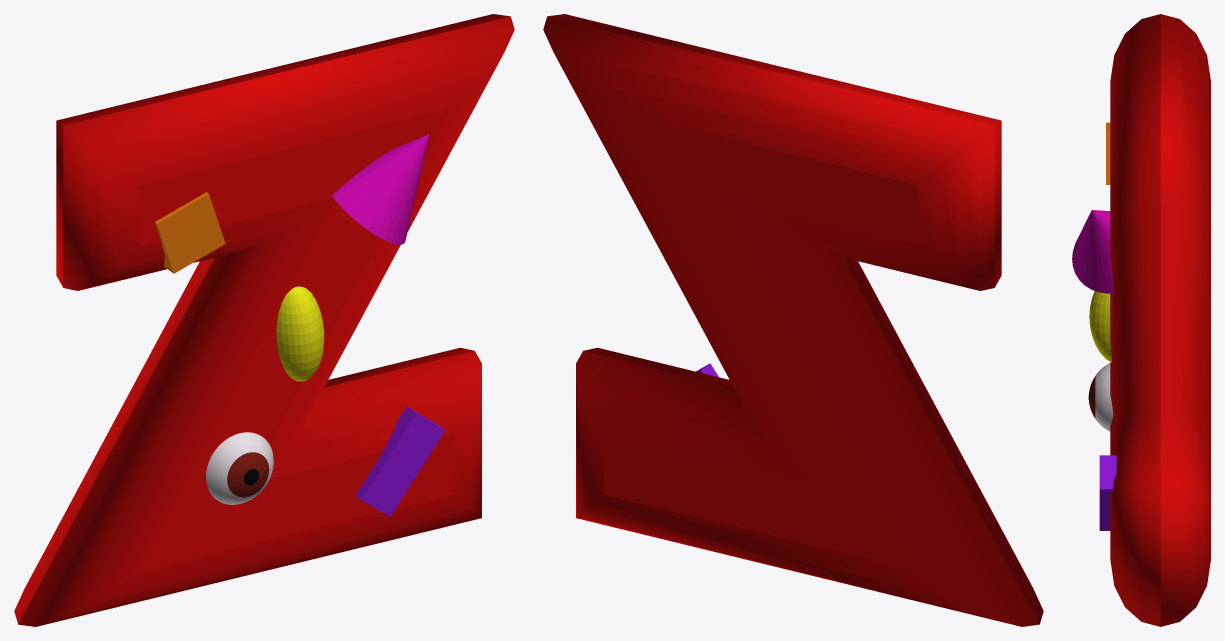
File: z_red.fbx
3 views of the same model, side by side, from view 1: azimuth 30°, elevation 25°; view 2: azimuth 150°, elevation 25°; view 3: azimuth 270°, elevation 25° (orthographic). The views are drawn at different scales.
Visible parts, largest first — view 1: Text, Cone, Cube.001, Sphere, Sphere.002, Cube; view 2: Text; view 3: Text, Cone, Sphere.002, Sphere, Cube.001, Cube.
Boxes of the visible parts, <box> form: Text: <box>14,14,514,626</box>; Cone: <box>332,134,429,244</box>; Cube.001: <box>355,406,445,516</box>; Sphere: <box>206,432,273,504</box>; Sphere.002: <box>276,286,324,381</box>; Cube: <box>155,192,225,273</box>; Text: <box>543,14,1043,626</box>; Text: <box>1110,14,1210,626</box>; Cone: <box>1072,210,1114,293</box>; Sphere.002: <box>1089,291,1111,362</box>; Sphere: <box>1088,363,1113,431</box>; Cube.001: <box>1099,455,1116,530</box>; Cube: <box>1106,122,1110,184</box>.
Bounding box in the file's own units: 58.41 × 55.3 × 16.03.
